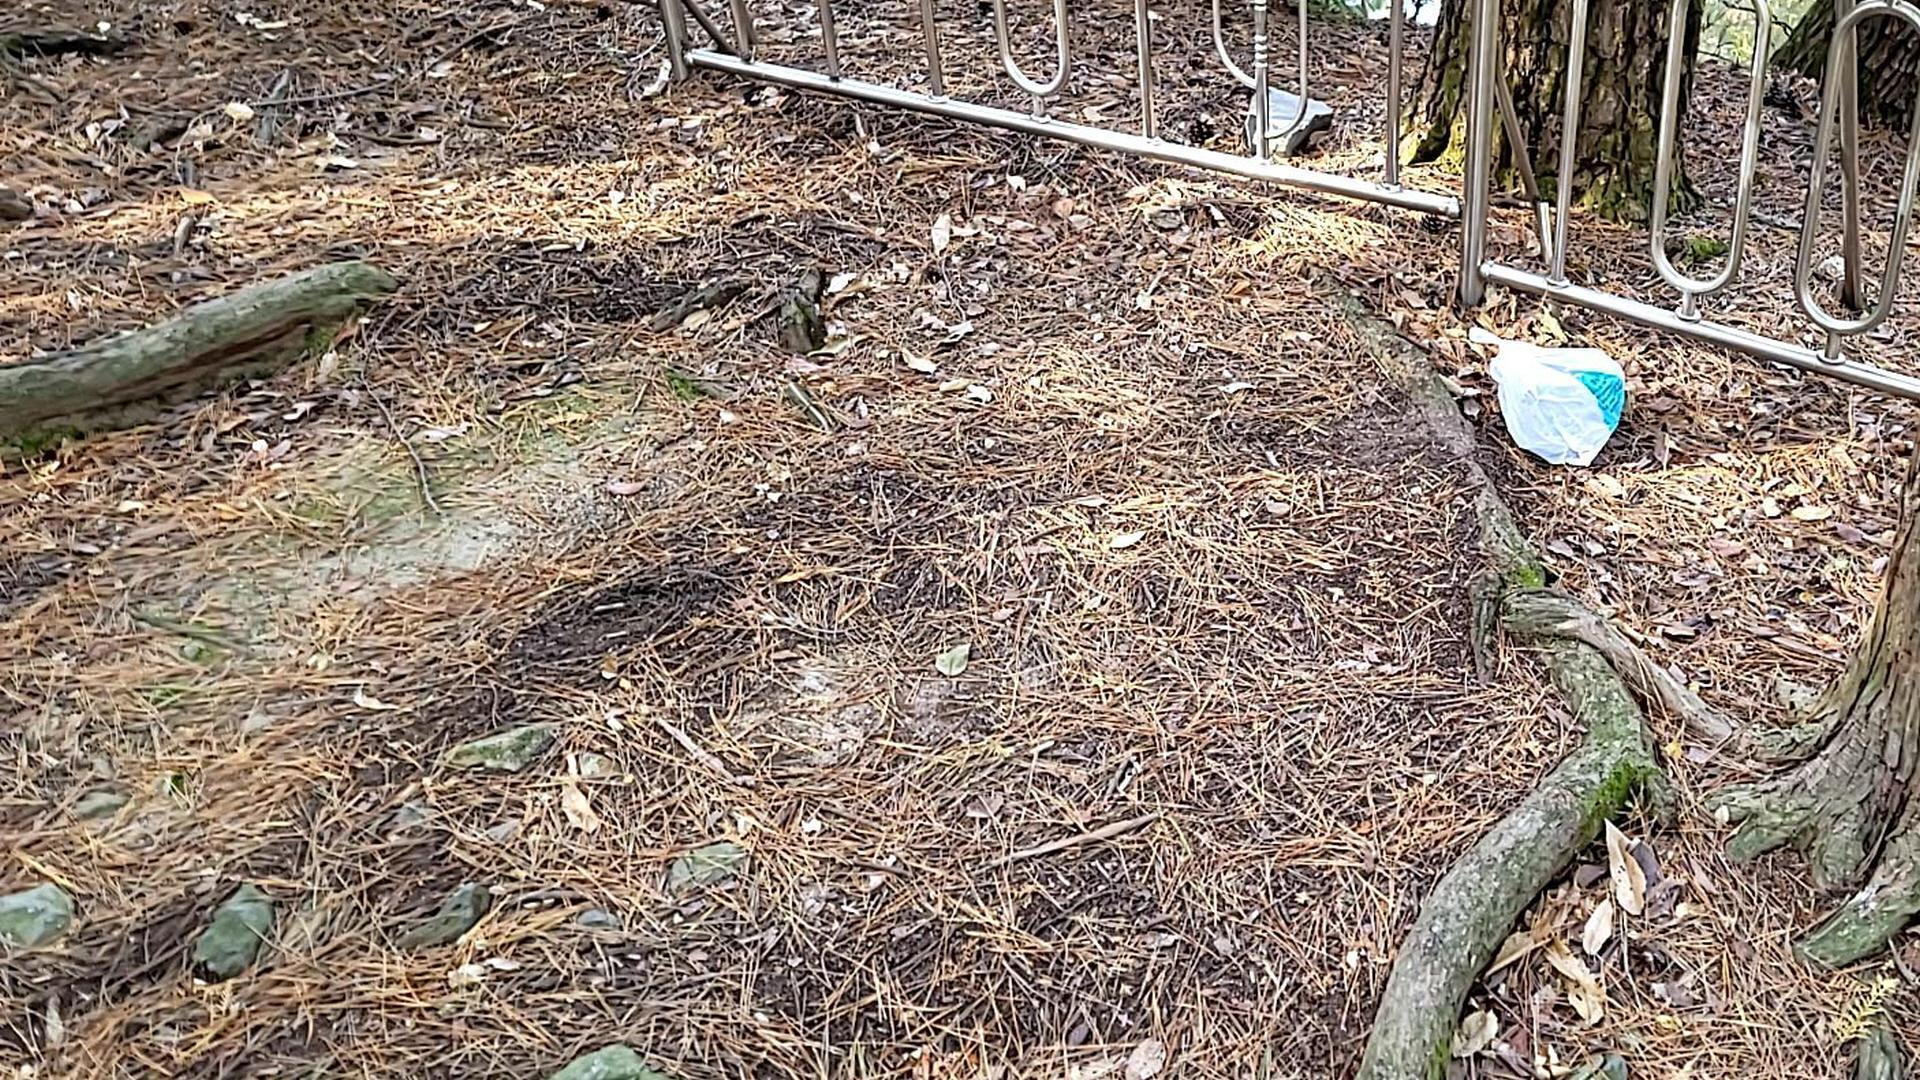white_bag: (1458, 309, 1638, 489)
